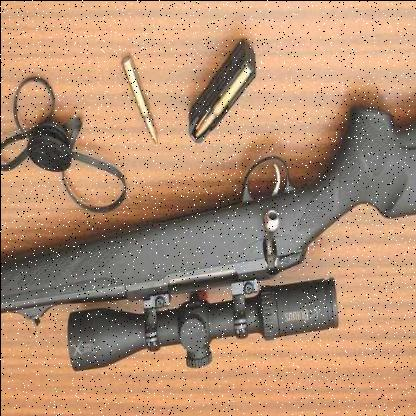rifle: (1, 42, 416, 391)
